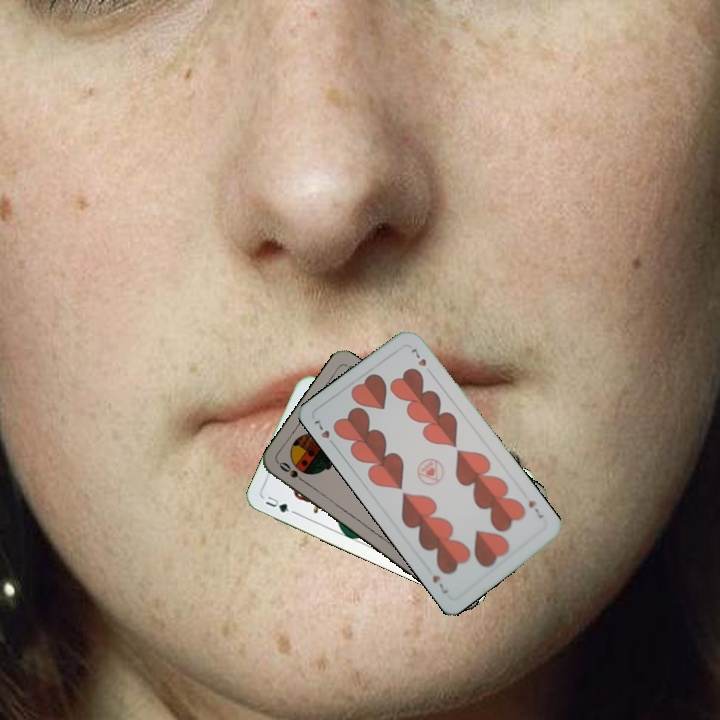GU: (261, 492, 293, 515)
H7: (309, 416, 338, 450), (524, 496, 546, 521)
SO: (275, 458, 310, 487)
